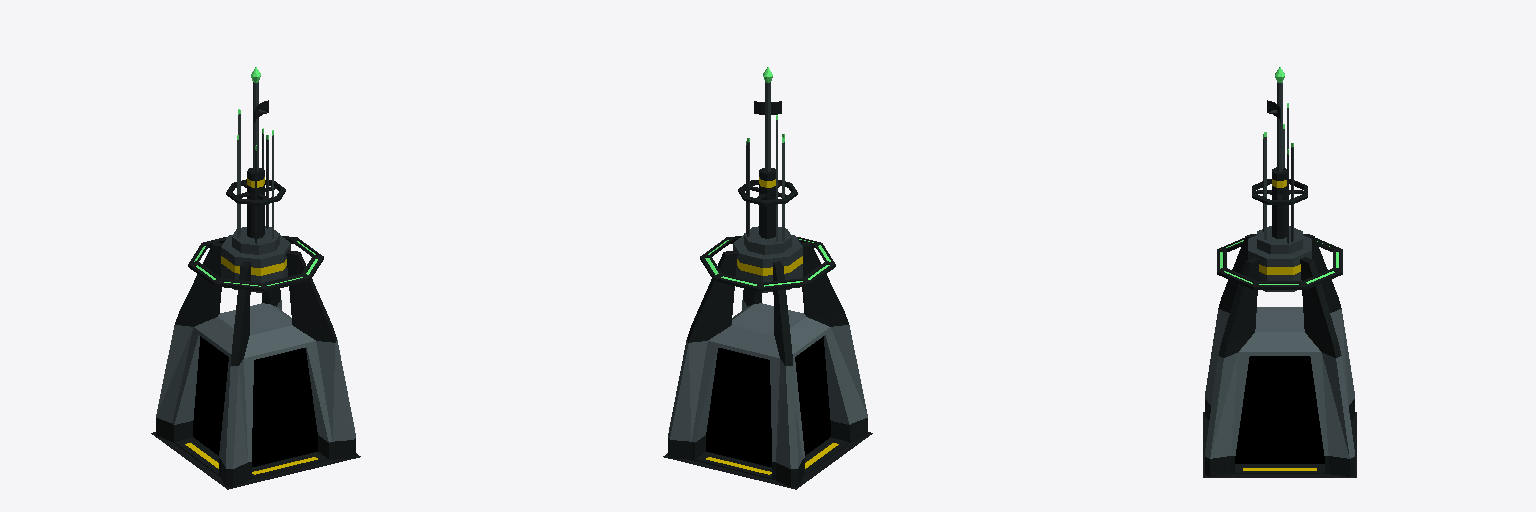
3 renders of one model, left to right at view 1: azimuth 30°, elevation 25°; view 2: azimuth 150°, elevation 25°; view 3: azimuth 270°, elevation 25°, orthographic.
Parts seen in each view (by area): view 1: Cube_Cube.003; view 2: Cube_Cube.003; view 3: Cube_Cube.003.
Boxes of the visible parts, x1,y1,x2,y2 form: Cube_Cube.003: [151, 67, 360, 489]; Cube_Cube.003: [663, 67, 872, 489]; Cube_Cube.003: [1203, 67, 1356, 477].
Bounding box in the file's own units: 2 × 5.41 × 2.
1 materials, 1 textured.